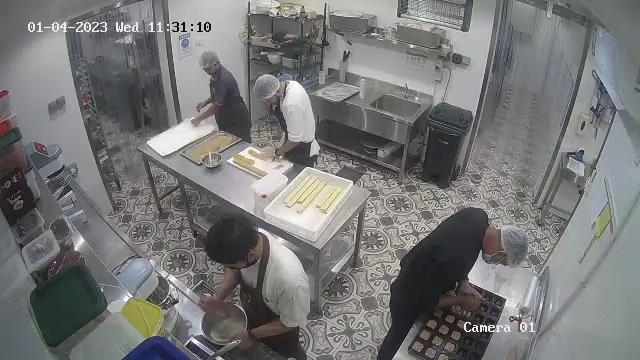apron: (238, 238, 308, 360), (271, 81, 308, 162)
